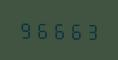nine: (18, 19, 33, 39)
six: (50, 19, 65, 40), (34, 19, 49, 39), (66, 20, 81, 40)
three: (82, 20, 97, 40)
